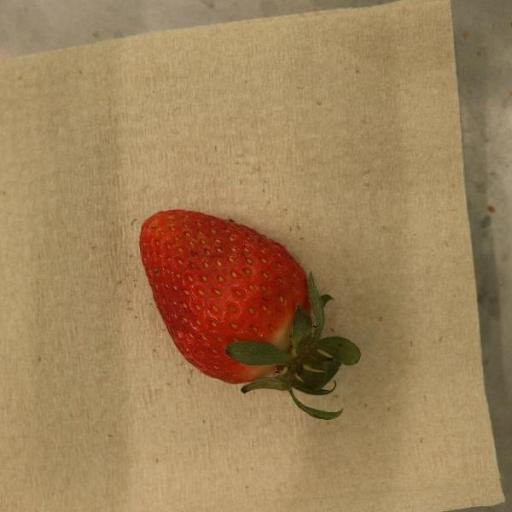Strawberry: (140, 210, 362, 421)
